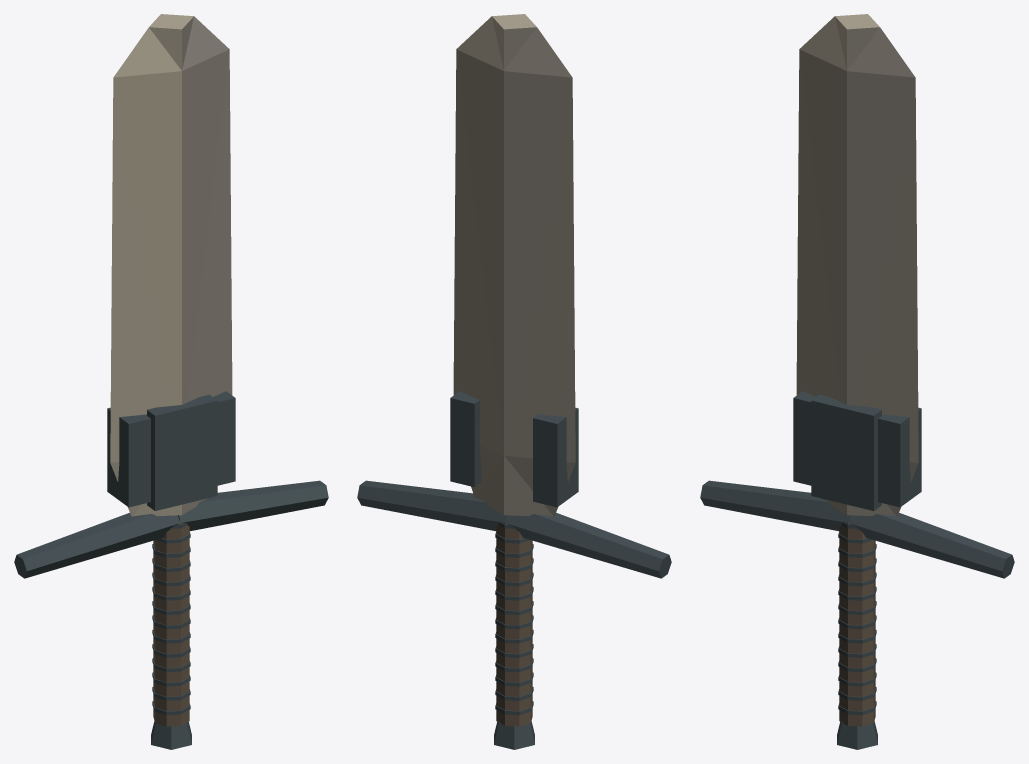
Rendered from Equip_ColossalSiege.fbx.
3 renders of one model, left to right at view 1: azimuth 30°, elevation 25°; view 2: azimuth 150°, elevation 25°; view 3: azimuth 330°, elevation 25°, orthographic.
Visible parts, largest first — view 1: Equip_ColossalSiege; view 2: Equip_ColossalSiege; view 3: Equip_ColossalSiege.
Boxes of the visible parts, left/top/right/bottom form: Equip_ColossalSiege: left=14, top=14, right=328, bottom=749; Equip_ColossalSiege: left=357, top=14, right=671, bottom=749; Equip_ColossalSiege: left=700, top=14, right=1014, bottom=749.
Bounding box in the file's own units: 1.07 × 2.41 × 0.156.
